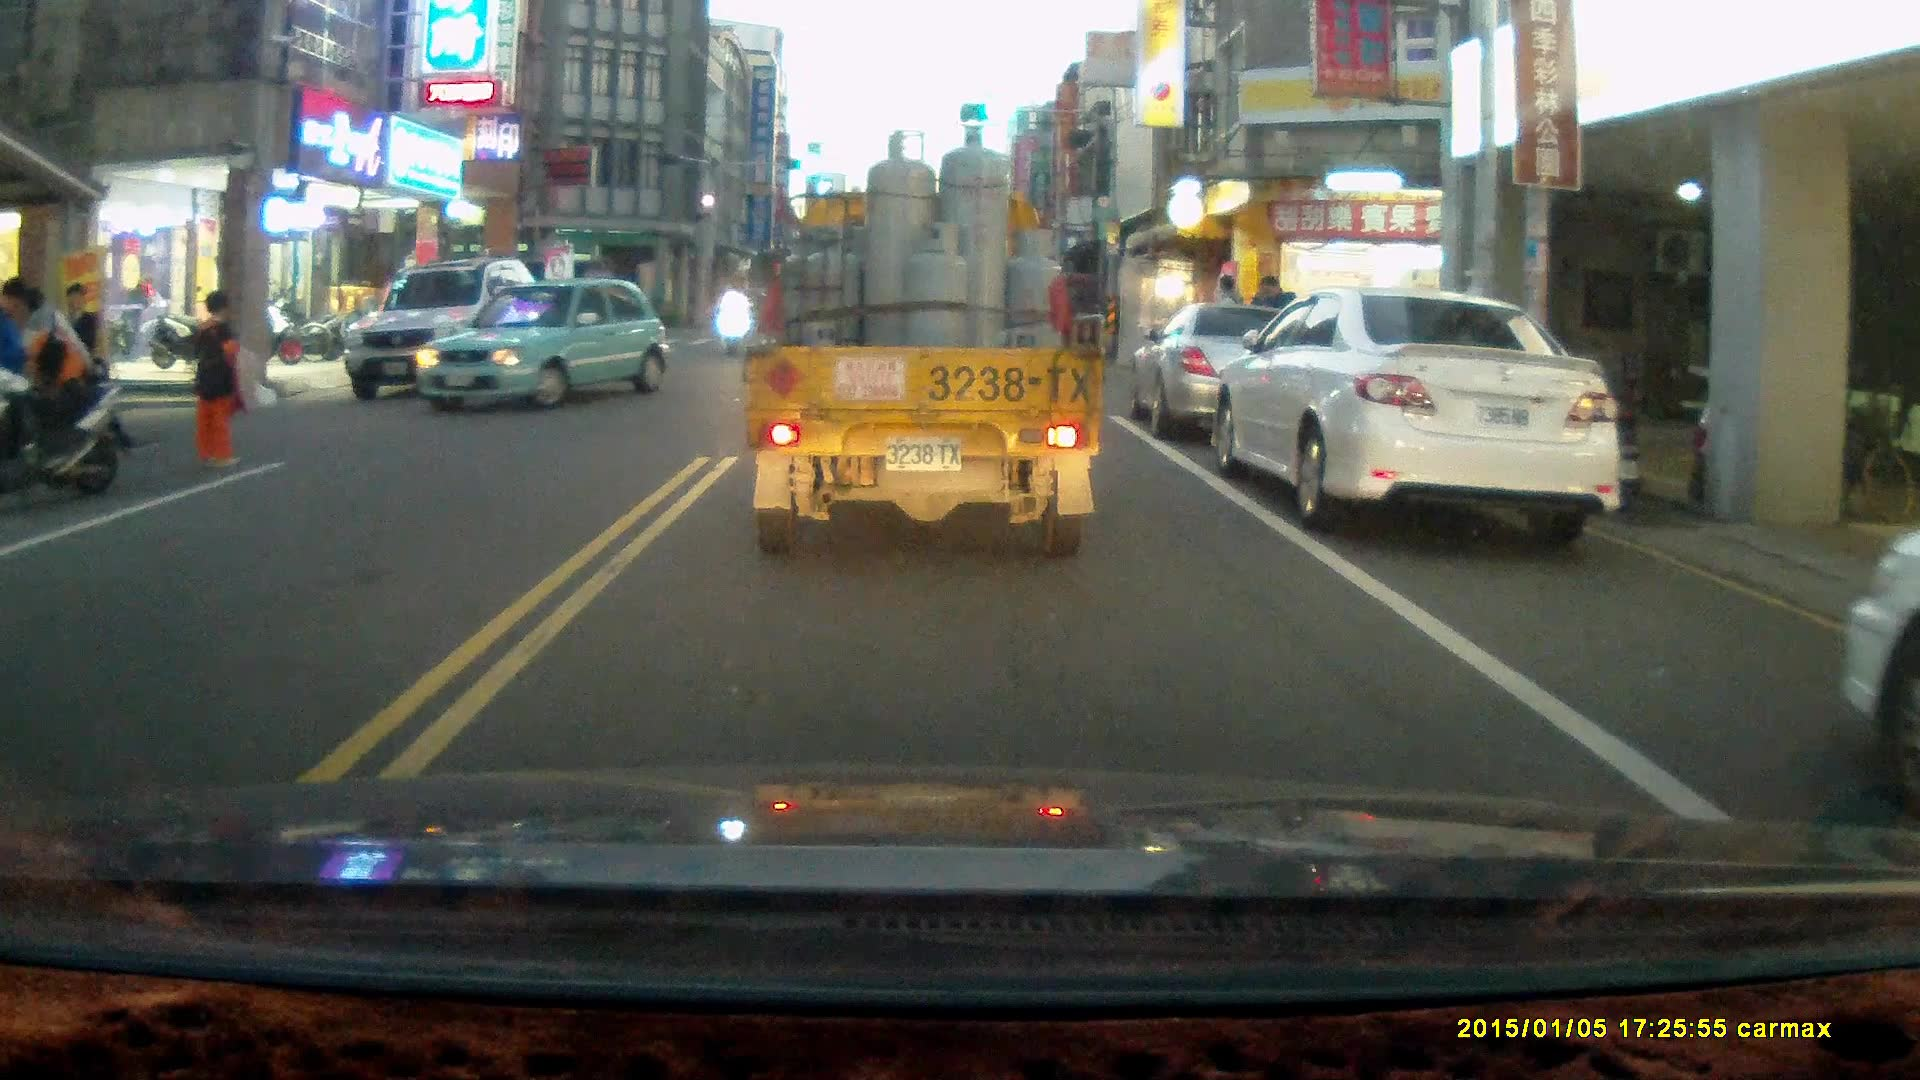pedestrian: (186, 287, 261, 468), (48, 281, 100, 436), (0, 276, 41, 460)
rider: (717, 282, 747, 356)
vehicle: (740, 121, 1104, 562), (1214, 282, 1628, 546), (1133, 298, 1399, 445), (414, 280, 675, 416), (345, 258, 551, 396)
